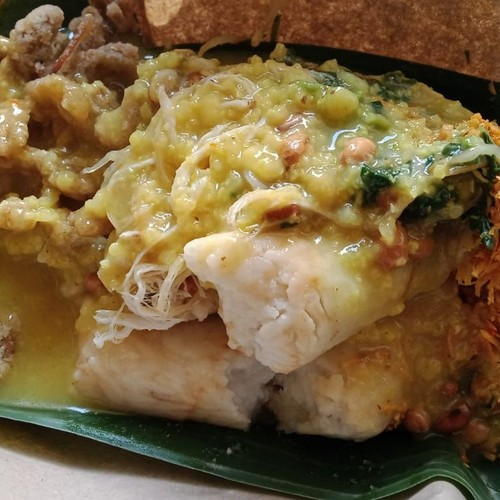tipat blayag: (16, 39, 500, 439)
